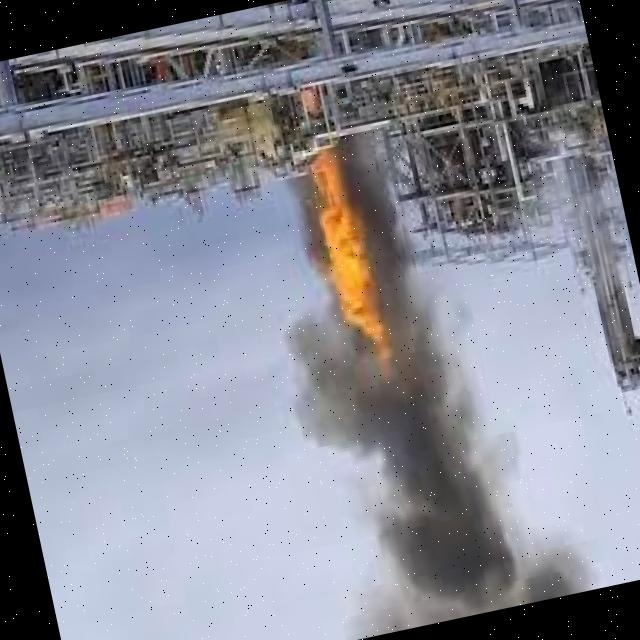explosion: (134, 42, 591, 640)
